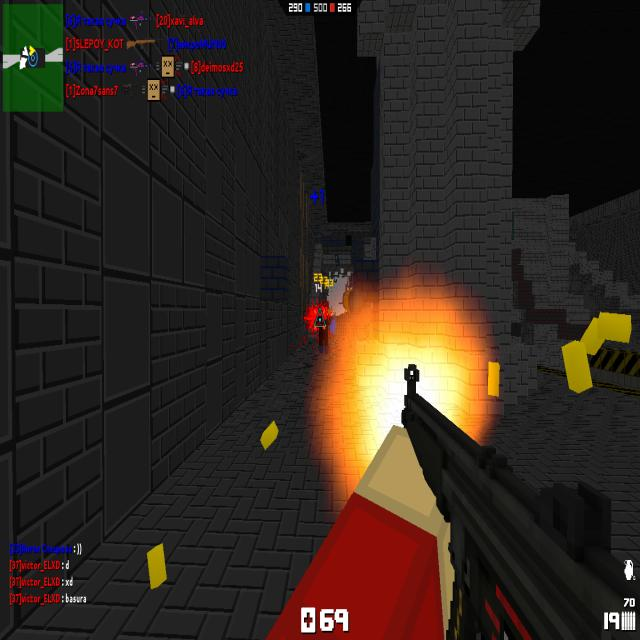enemy: (317, 304, 329, 355), (328, 307, 336, 337), (334, 253, 340, 266)
